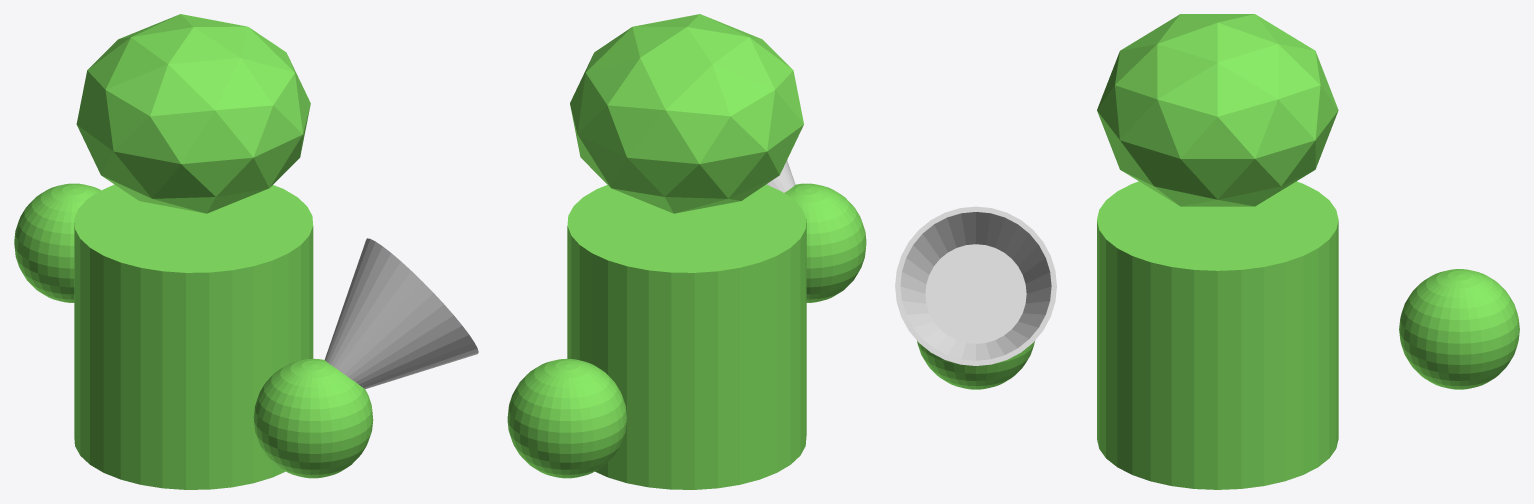
The model's file is MegaphoneMan.fbx.
3 renders of one model, left to right at view 1: azimuth 30°, elevation 25°; view 2: azimuth 150°, elevation 25°; view 3: azimuth 270°, elevation 25°, orthographic.
Parts seen in each view (by area): view 1: 円柱, ICO球, 円錐, 球.001, 球; view 2: 円柱, ICO球, 球, 球.001, 円錐; view 3: 円柱, ICO球, 円錐, 球, 球.001.
Boxes of the visible parts, x1=… form: 円柱: x1=74, y1=184, x2=313, y2=489; ICO球: x1=76, y1=14, x2=310, y2=213; 円錐: x1=324, y1=238, x2=478, y2=389; 球.001: x1=253, y1=358, x2=373, y2=478; 球: x1=14, y1=183, x2=100, y2=302; 円柱: x1=567, y1=184, x2=806, y2=489; ICO球: x1=570, y1=14, x2=803, y2=213; 球: x1=507, y1=358, x2=626, y2=478; 球.001: x1=784, y1=183, x2=866, y2=302; 円錐: x1=766, y1=160, x2=795, y2=192; 円柱: x1=1097, y1=181, x2=1338, y2=489; ICO球: x1=1097, y1=14, x2=1338, y2=206; 円錐: x1=895, y1=206, x2=1056, y2=365; 球: x1=1399, y1=269, x2=1519, y2=389; 球.001: x1=917, y1=341, x2=1034, y2=389.
Bounding box in the file's own units: 243 × 380 × 517.
